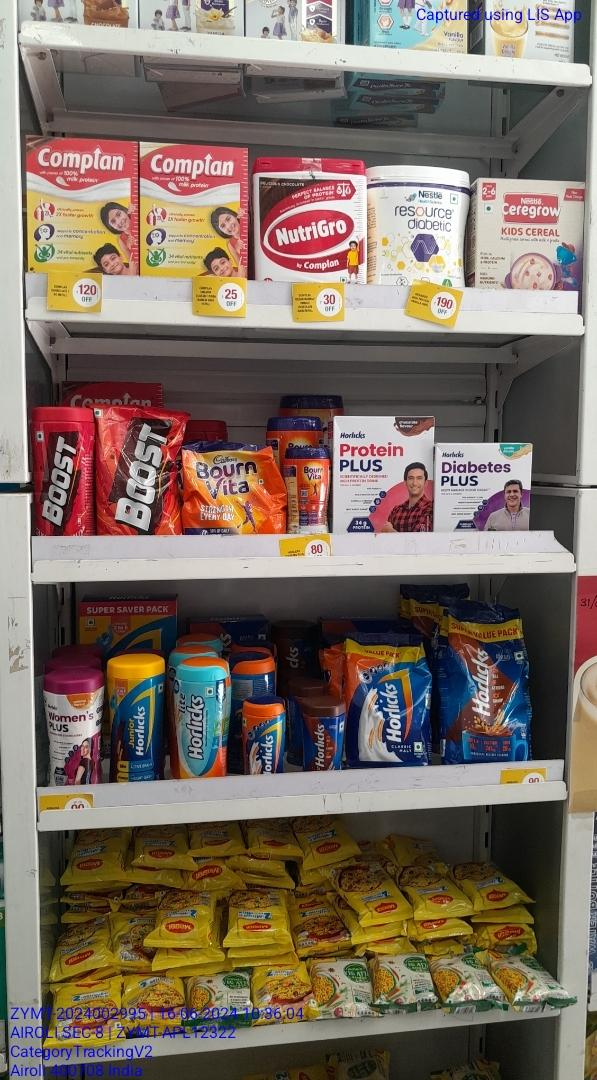BOURN_VITA_500_G_POUCH: (184, 444, 284, 532)
HORLICKS_LITE_REGULAR_MALT_500_GM_JAR: (173, 662, 228, 775)
HORLICK_CHOCOLATE_200_G_JAR: (302, 701, 345, 769)
HORLICK_CHOCOLATE_750_G_POUCH: (448, 610, 533, 763)
HORLICK_CLASSIC_MALT_200_G_JAR: (242, 698, 283, 773)
HORLICK_CLASSIC_MALT_750_G_POUCH: (351, 639, 428, 763)
